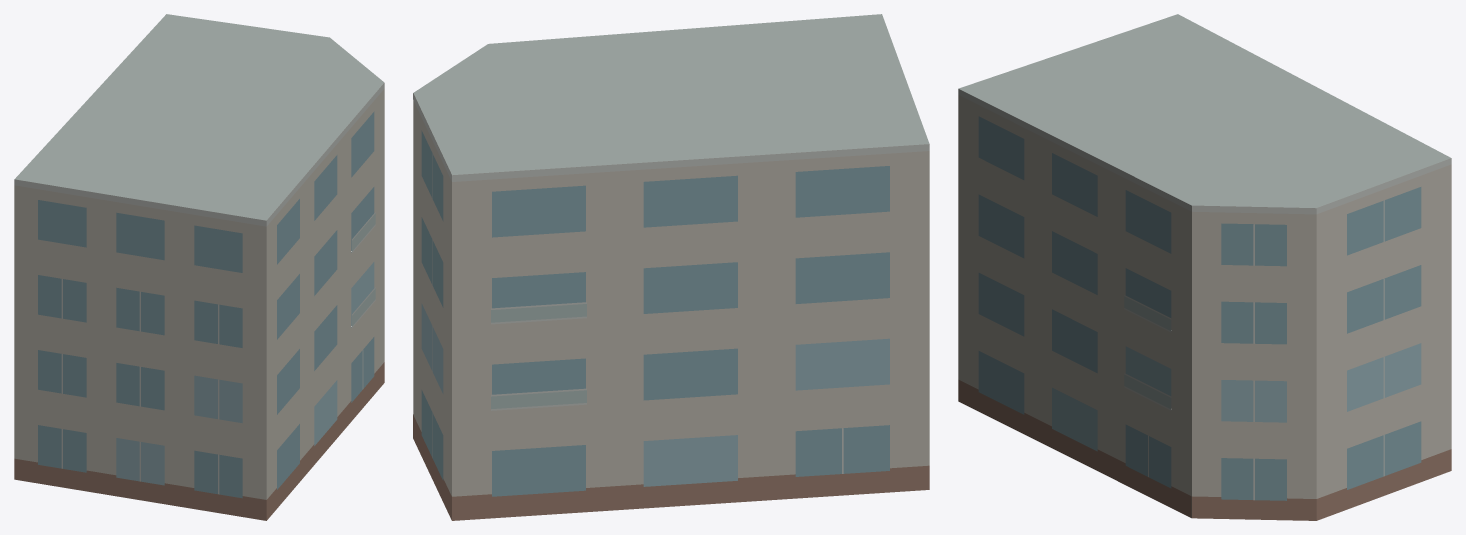
The model's file is survey-upis-32844896.glb.
The picture shows the model from 3 angles, left to right: view 1: azimuth 30°, elevation 25°; view 2: azimuth 150°, elevation 25°; view 3: azimuth 270°, elevation 25°; orthographic projection. The views are drawn at different scales.
Parts seen in each view (by area): view 1: survey-upis-32844896.tmp; view 2: survey-upis-32844896.tmp; view 3: survey-upis-32844896.tmp.
Boxes of the visible parts, x1,y1,x2,y2 form: survey-upis-32844896.tmp: (14,14,384,520); survey-upis-32844896.tmp: (413,14,929,520); survey-upis-32844896.tmp: (958,14,1451,520).
Size of the model in its own units: 16.25 by 12.2 by 17.45.
